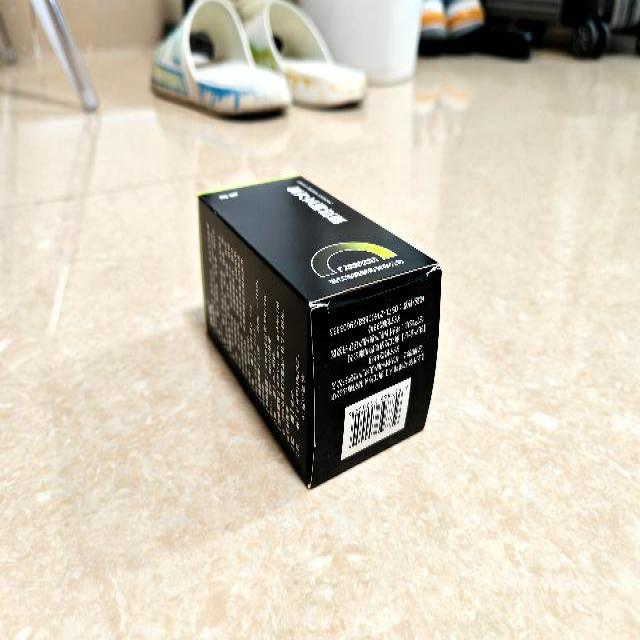box: (197, 175, 441, 490)
